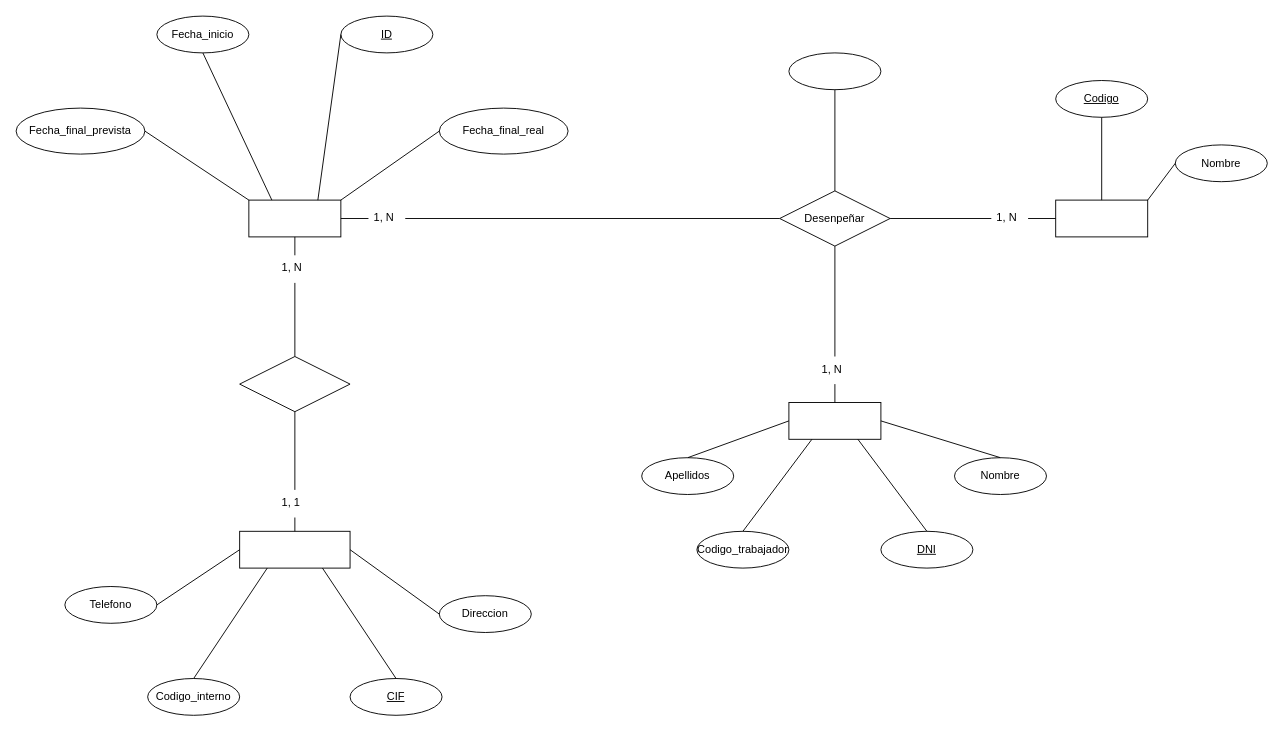
This 1283x731 diagram has some shape labels left out. The centre of each missing label's shape, as x and y in pixels:
"Crear" belongs at [294,384].
"Empresa" belongs at [294,549].
"Horas_trabajadas" belongs at [834,71].
"Profesiones" belongs at [1101,218].
"Proyectos" belongs at [294,218].
"Trabajadores" belongs at [834,420].
